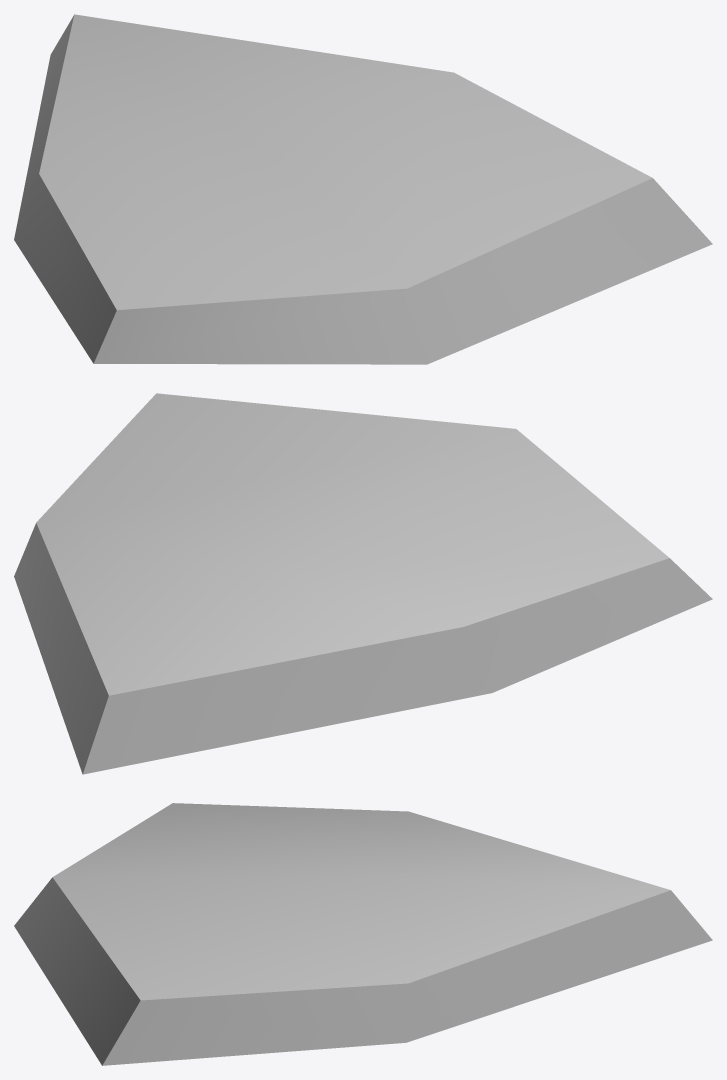
The model's file is stone_06.FBX.
The picture shows the model from 3 angles, top to bottom: view 1: azimuth 30°, elevation 25°; view 2: azimuth 150°, elevation 25°; view 3: azimuth 270°, elevation 25°; orthographic projection. The views are drawn at different scales.
Parts seen in each view (by area): view 1: stone_06; view 2: stone_06; view 3: stone_06.
Boxes of the visible parts, left/top/right/bottom form: stone_06: left=14, top=14, right=712, bottom=364; stone_06: left=14, top=393, right=712, bottom=774; stone_06: left=14, top=803, right=712, bottom=1065.
Bounding box in the file's own units: 0.3898 × 0.0453 × 0.4732.
1 material, 1 textured.
